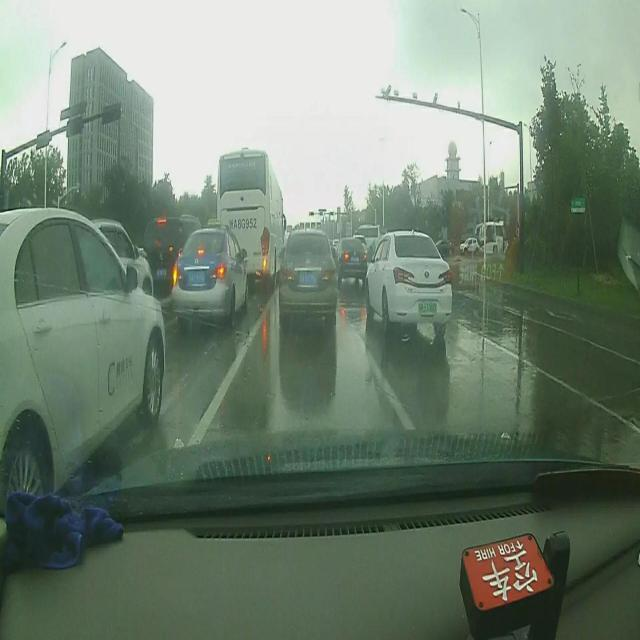car: (0, 208, 164, 500), (364, 230, 451, 332), (172, 219, 247, 322), (278, 228, 338, 324), (90, 217, 154, 296), (334, 236, 368, 280)
